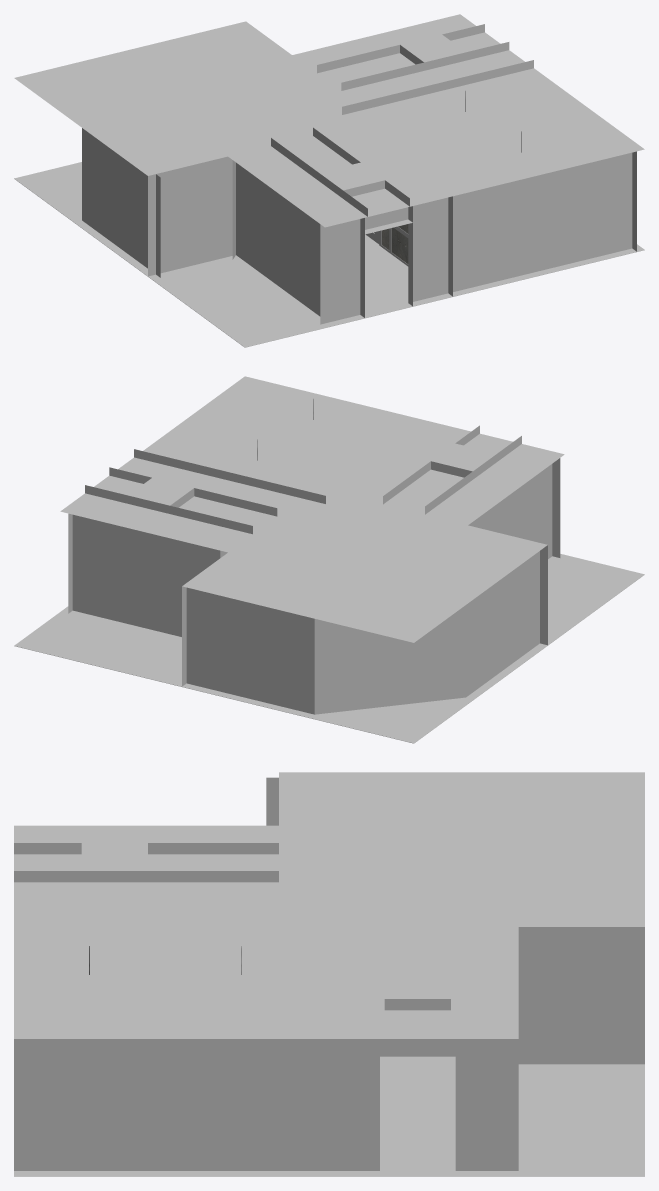
File: room2C_Ez.fbx
3 renders of one model, top to bottom at view 1: azimuth 30°, elevation 25°; view 2: azimuth 150°, elevation 25°; view 3: azimuth 270°, elevation 25°, orthographic. The views are drawn at different scales.
Visible parts, largest first — view 1: room2C_Ez; view 2: room2C_Ez; view 3: room2C_Ez.
Boxes of the visible parts, box(x1,y1,x2,y2) form: room2C_Ez: box(14, 14, 644, 347); room2C_Ez: box(14, 376, 644, 743); room2C_Ez: box(14, 772, 644, 1176).
Bounding box in the file's own units: 16 × 4.66 × 16.
